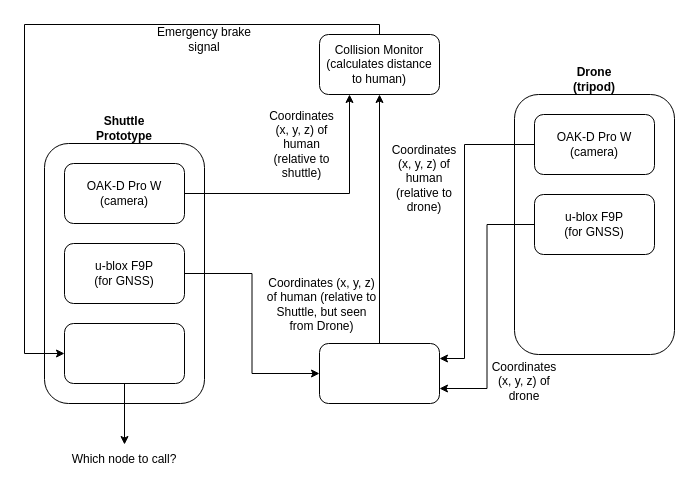
Some shapes in this 692 by 492 pixel diagram are drawn without their labels. Each missing label, with the centre of its shape:
Fuser: point (379, 373)
VESC (motor controller): point (124, 353)
